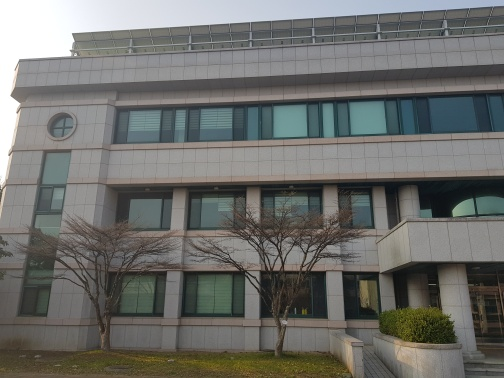Information Telecommunication Center: (22, 21, 500, 352), (6, 55, 98, 344)
